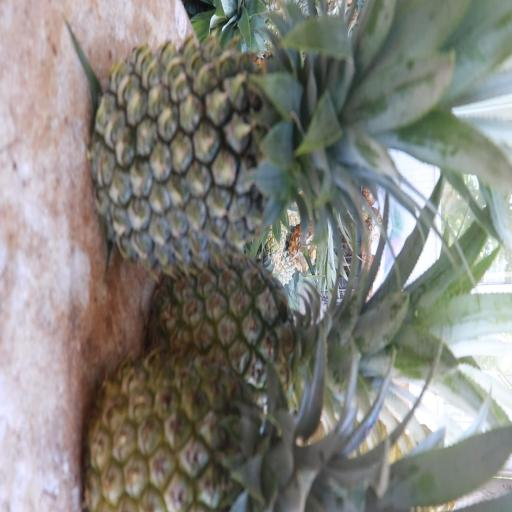------------------------------: (79, 361, 423, 512), (143, 240, 381, 428)
